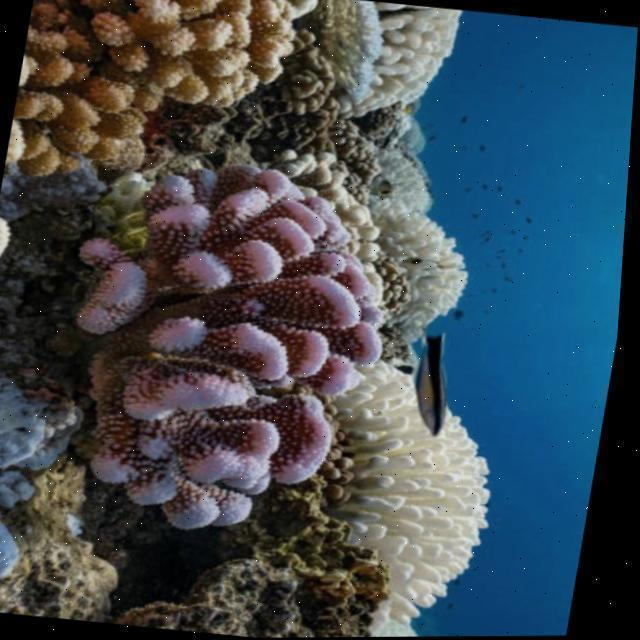Bleached Coral: (322, 362, 510, 619), (358, 30, 508, 323)
Healthy Coral: (0, 0, 388, 532)
